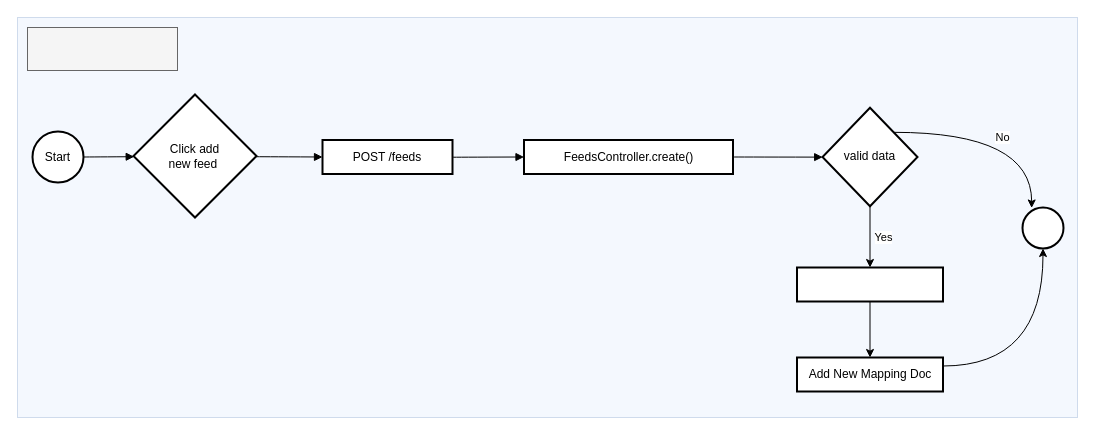
This 1095x435 diagram has some shape labels left out. Each missing label, with the centre of its shape:
Add New Feed Doc: the point at 870,284
Create Feed: the point at 102,48
End: the point at 1042,227
